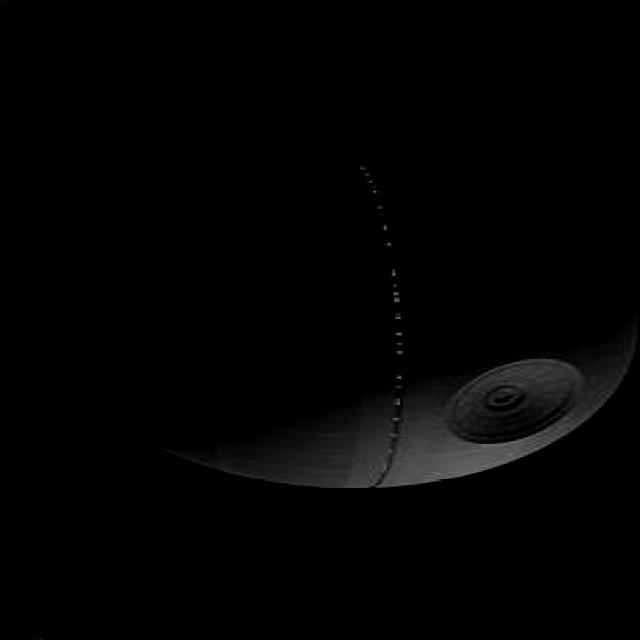deathStar: (127, 153, 638, 490)
